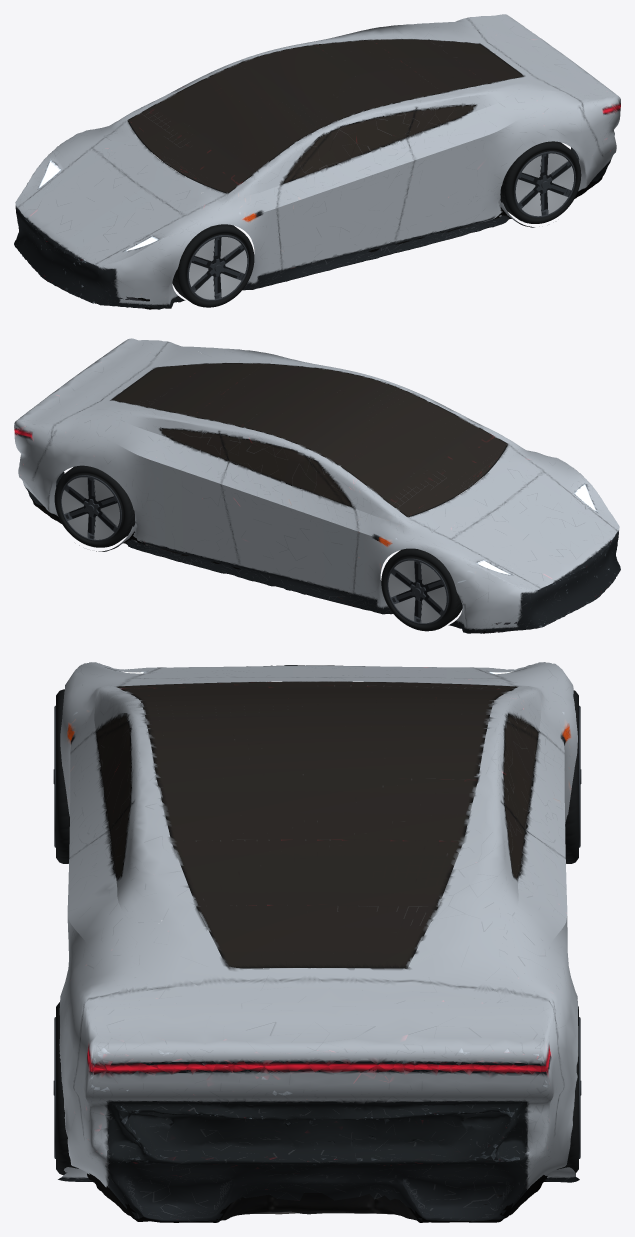
File: roadster-refined.glb
The picture shows the model from 3 angles, top to bottom: view 1: azimuth 30°, elevation 25°; view 2: azimuth 150°, elevation 25°; view 3: azimuth 270°, elevation 25°; orthographic projection. The views are drawn at different scales.
Visible parts, largest first — view 1: Roadster body, Wheel_3, Wheel_1; view 2: Roadster body, Wheel_2, Wheel_0; view 3: Roadster body, Wheel_3, Wheel_1, Wheel_2, Wheel_0.
Part boxes in pixels (x1=…): Roadster body: x1=14, y1=14, x2=620, y2=309; Wheel_3: x1=172, y1=224, x2=254, y2=307; Wheel_1: x1=500, y1=141, x2=581, y2=223; Roadster body: x1=14, y1=338, x2=620, y2=633; Wheel_2: x1=381, y1=548, x2=462, y2=631; Wheel_0: x1=54, y1=465, x2=135, y2=547; Roadster body: x1=58, y1=662, x2=579, y2=1222; Wheel_3: x1=53, y1=689, x2=69, y2=863; Wheel_1: x1=53, y1=1002, x2=78, y2=1175; Wheel_2: x1=565, y1=690, x2=581, y2=863; Wheel_0: x1=557, y1=1006, x2=581, y2=1172.
Size of the model in its own units: 1.47 by 0.3707 by 0.6402.
Materials: 6 (1 with a texture image).
